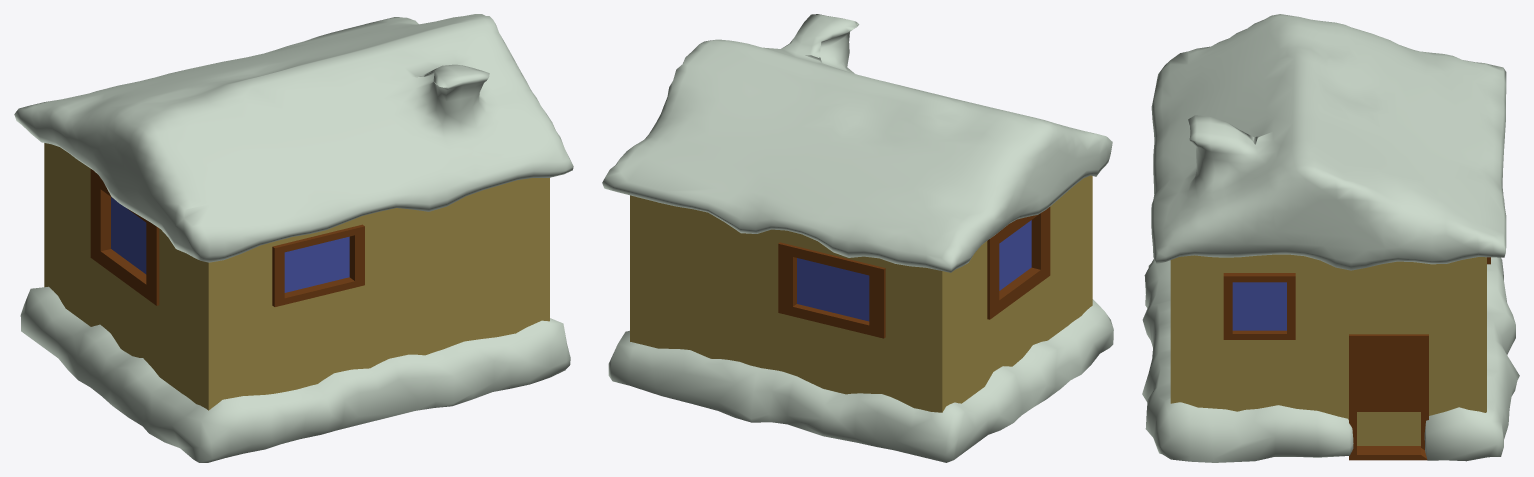
Rendered from HomeSnow-3.fbx.
3 views of the same model, side by side, from view 1: azimuth 30°, elevation 25°; view 2: azimuth 150°, elevation 25°; view 3: azimuth 270°, elevation 25° (orthographic). The views are drawn at different scales.
Visible parts, largest first — view 1: HomeSnow-3; view 2: HomeSnow-3; view 3: HomeSnow-3.
Boxes of the visible parts, x1,y1,x2,y2 form: HomeSnow-3: (14,14,573,462); HomeSnow-3: (602,14,1113,462); HomeSnow-3: (1142,14,1519,462).
Size of the model in its own units: 20.27 by 15.06 by 17.62.
